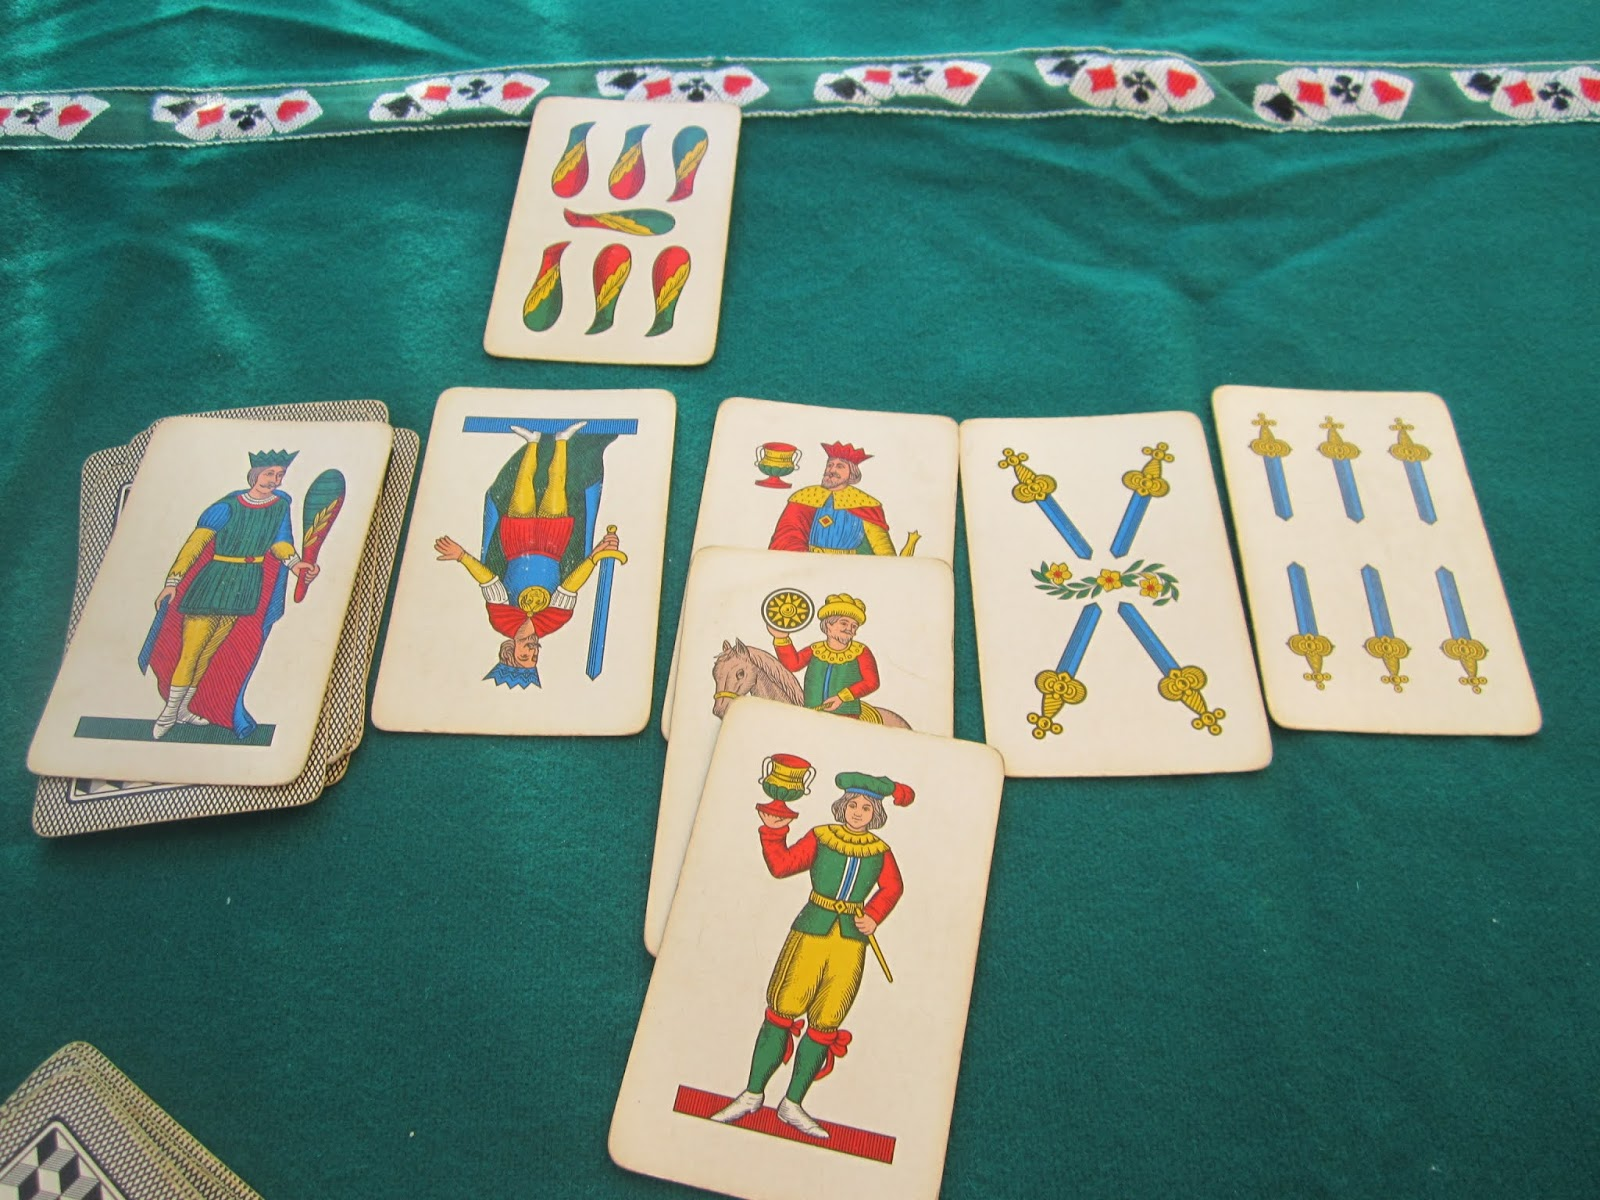coppe: (658, 691, 976, 1196)
